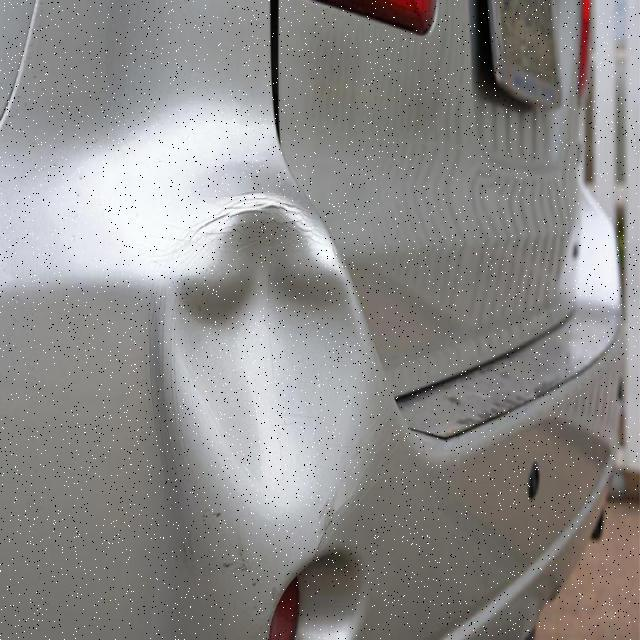rear-bumper-dent: (0, 173, 639, 639)
